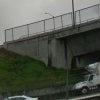Bridge: (4, 7, 95, 65)
